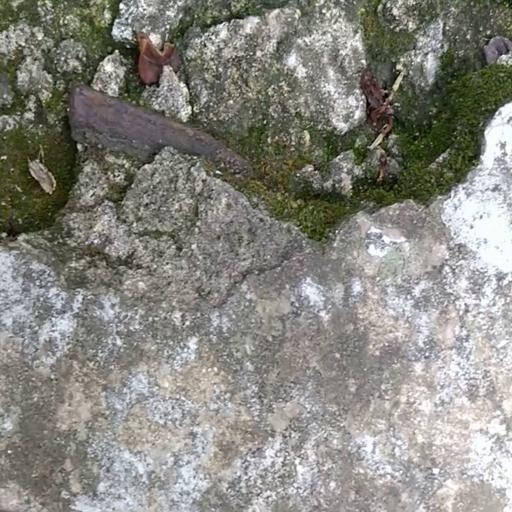spalling: (0, 0, 512, 255)
